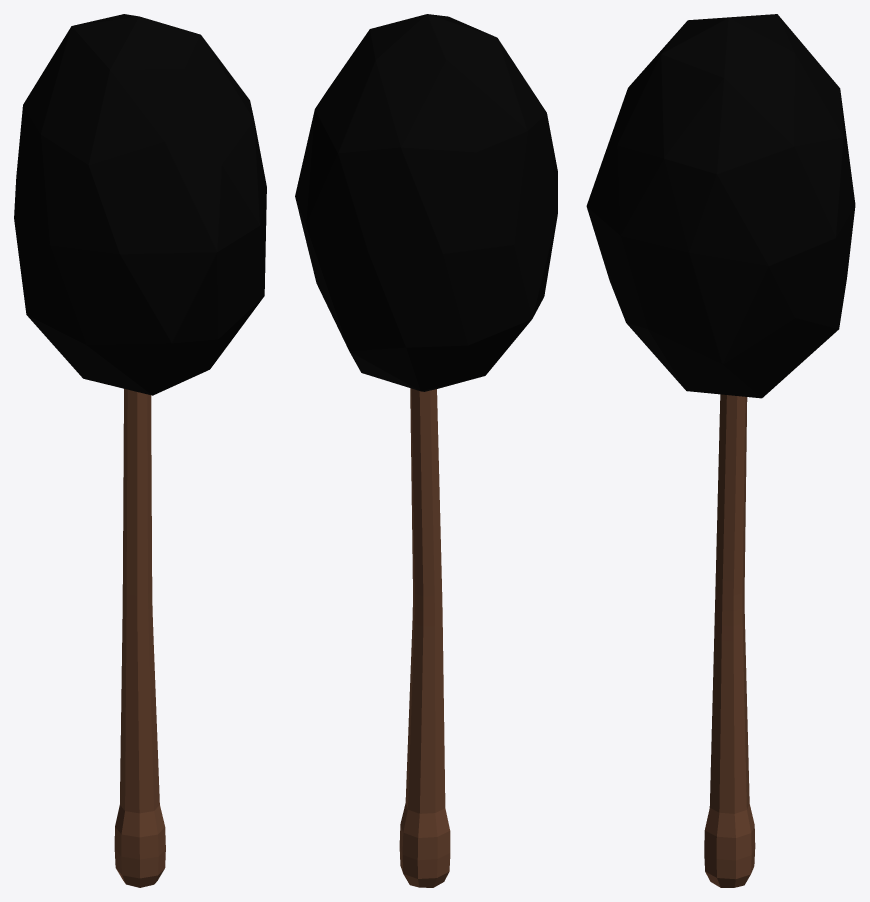
File: Tree_Foliage_Tiny-1.fbx
3 views of the same model, side by side, from view 1: azimuth 30°, elevation 25°; view 2: azimuth 150°, elevation 25°; view 3: azimuth 270°, elevation 25° (orthographic).
Parts seen in each view (by area): view 1: Tree_Foliage_Tiny-1; view 2: Tree_Foliage_Tiny-1; view 3: Tree_Foliage_Tiny-1.
Part boxes in pixels (left/top/right/bottom): Tree_Foliage_Tiny-1: left=14, top=14, right=266, bottom=887; Tree_Foliage_Tiny-1: left=295, top=14, right=557, bottom=887; Tree_Foliage_Tiny-1: left=586, top=14, right=855, bottom=887.
Size of the model in its own units: 0.1676 by 0.6285 by 0.1767.
